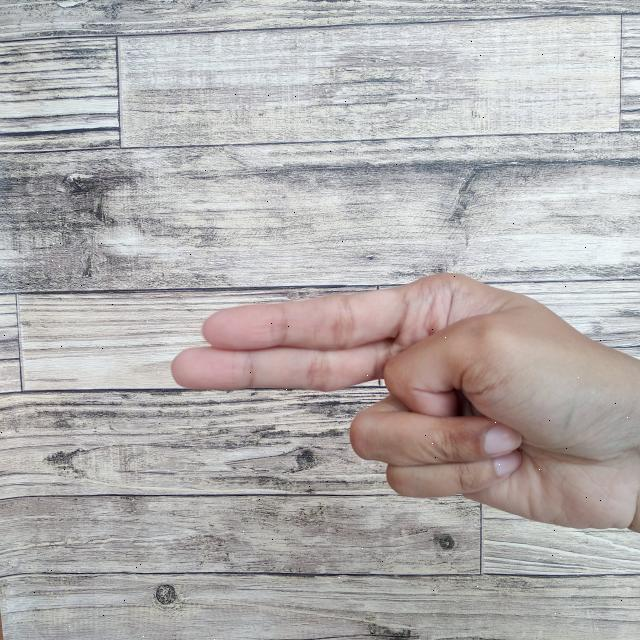H: (161, 260, 640, 552)
